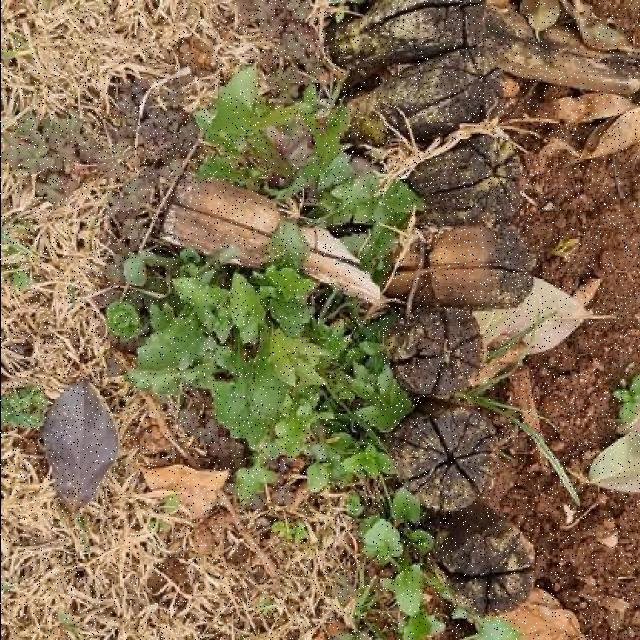weed: (107, 222, 411, 503), (198, 68, 418, 278), (344, 489, 440, 640)
